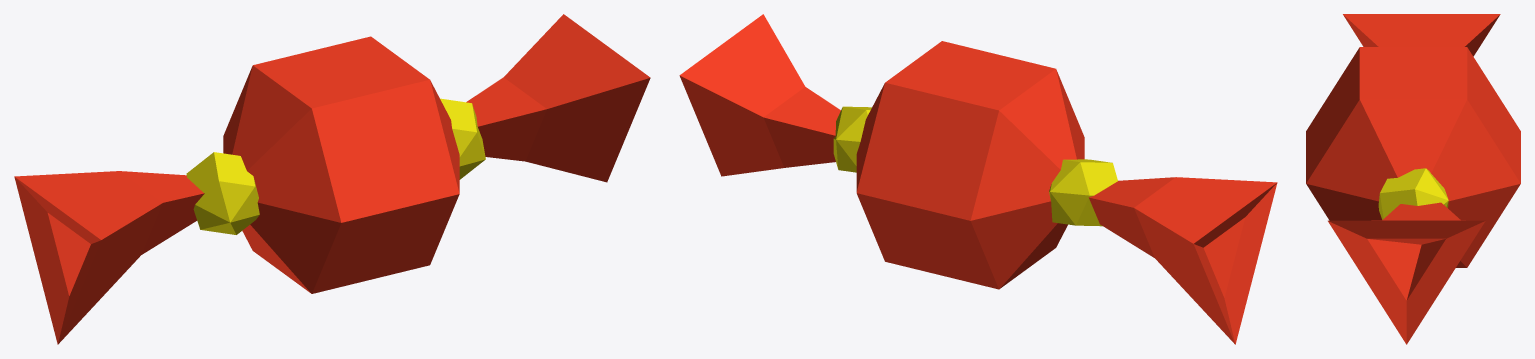
The model's file is Candy.FBX.
The picture shows the model from 3 angles, left to right: view 1: azimuth 30°, elevation 25°; view 2: azimuth 150°, elevation 25°; view 3: azimuth 270°, elevation 25°; orthographic projection. The views are drawn at different scales.
Parts seen in each view (by area): view 1: Candy; view 2: Candy; view 3: Candy.
Part boxes in pixels (<box>): Candy: <box>14,14,650,344</box>; Candy: <box>679,14,1277,344</box>; Candy: <box>1306,14,1520,344</box>.
Size of the model in its own units: 0.9349 by 0.3429 by 0.3538.
Materials: 1 (1 with a texture image).
